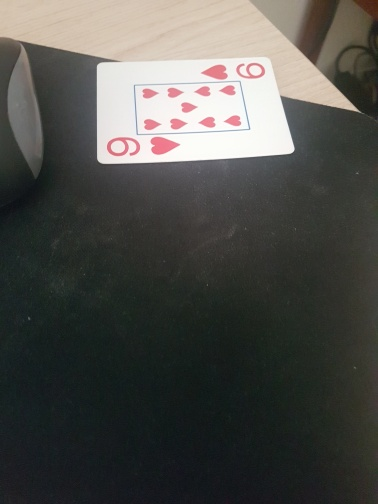nine: (95, 53, 297, 166)
